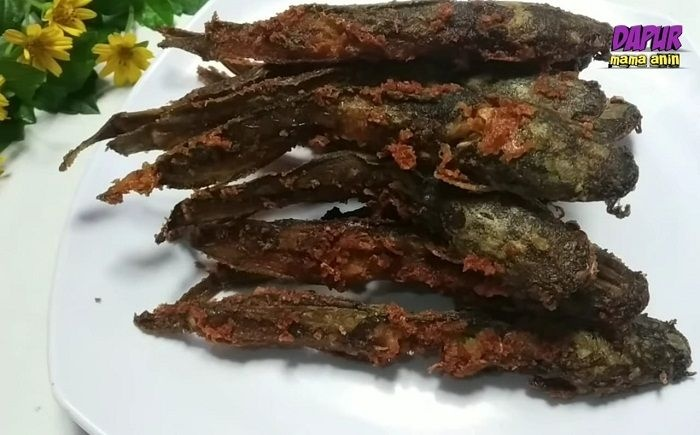pecel_lele: (173, 204, 638, 325), (117, 300, 695, 395), (147, 2, 614, 75)
